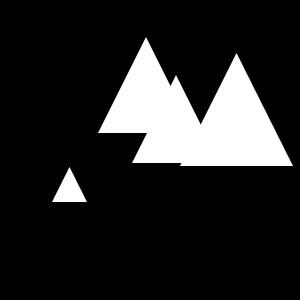triangle: (180, 53, 293, 166), (98, 37, 194, 133), (132, 75, 220, 163), (52, 167, 87, 202)
